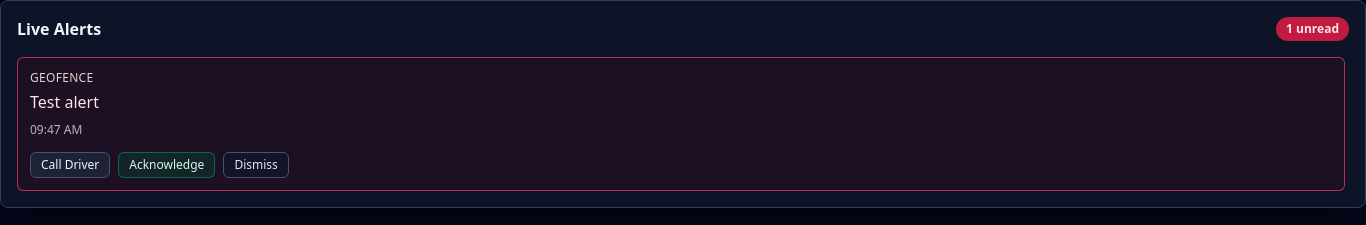
Test: RealTimeAlertFeed › removes an alert immediately when acknowledged
Click the button with aria-label "acknowledge alert ALERT-1". click: point(167, 165)
box: [118,152,215,178]
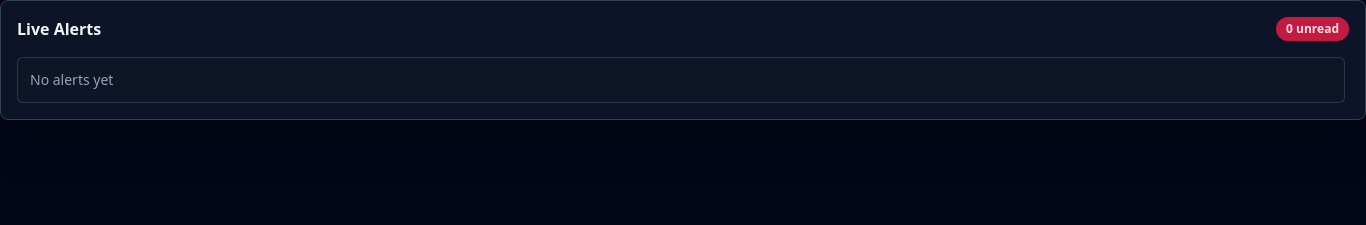
expect the button "Test alert" is gone: met
expect the list item "No alerts yet" is shown: met, box [17,57,1345,103]
